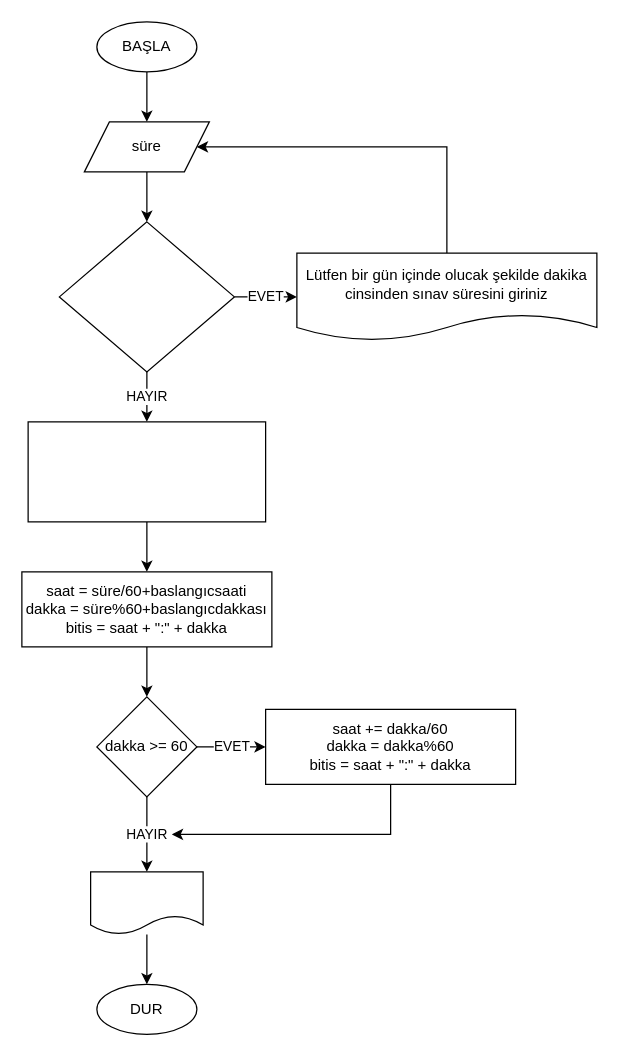
Image size: 619x1056. Some labels were removed from this diagram. Each missing label, with the centre of its shape:
"baslangıcsaati , baslangıcdakkası , saat , dakka , bitis" belongs at (146,471).
"bitis" belongs at (146,902).
"sure <0 || sure >1440" belongs at (146,296).
